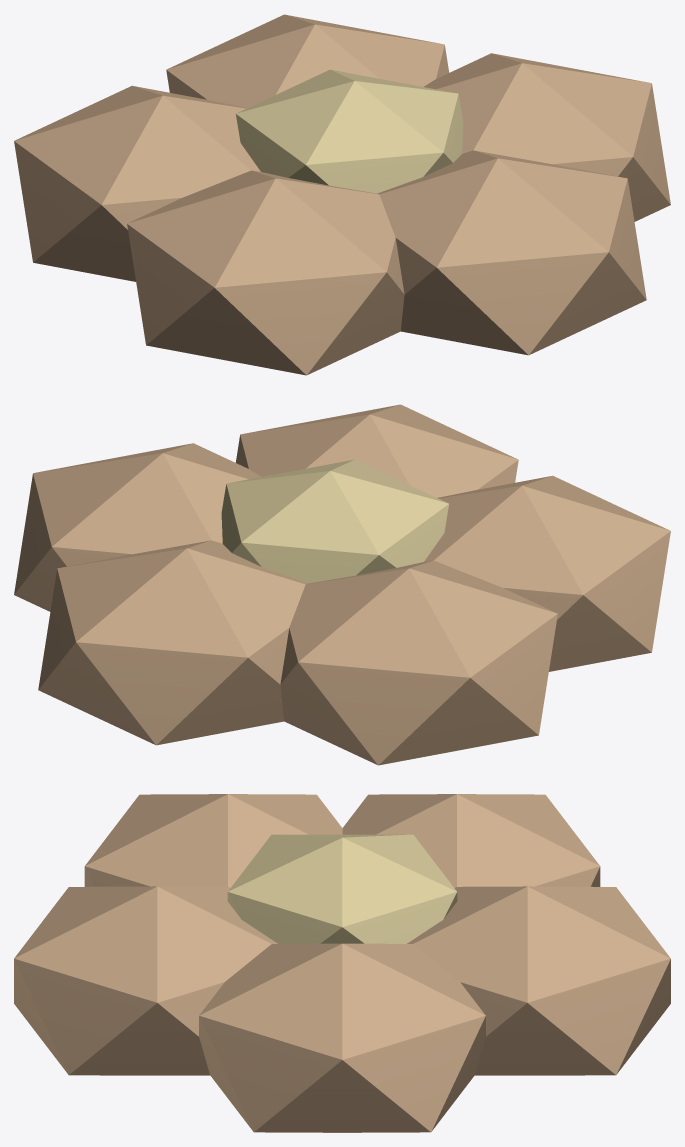
The model's file is prop-moka-bread-flower.glb.
The picture shows the model from 3 angles, top to bottom: view 1: azimuth 30°, elevation 25°; view 2: azimuth 150°, elevation 25°; view 3: azimuth 270°, elevation 25°; orthographic projection.
Visible parts, largest first — view 1: prop-moka-bread-flower; view 2: prop-moka-bread-flower; view 3: prop-moka-bread-flower.
Boxes of the visible parts, x1,y1,x2,y2 form: prop-moka-bread-flower: (14, 14, 670, 375); prop-moka-bread-flower: (14, 404, 670, 765); prop-moka-bread-flower: (14, 794, 670, 1132).
Size of the model in its own units: 0.28 by 0.1 by 0.28.
